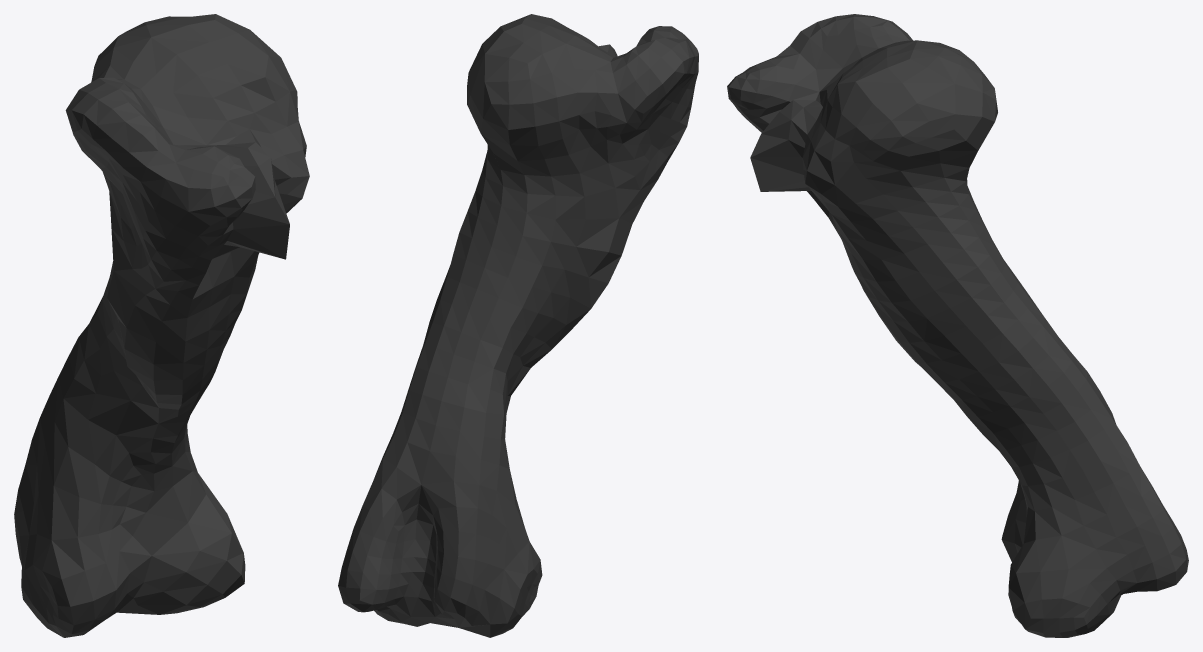
The model's file is Humerus_R_Equine_skeleton_separated_004.glb.
The picture shows the model from 3 angles, left to right: view 1: azimuth 30°, elevation 25°; view 2: azimuth 150°, elevation 25°; view 3: azimuth 270°, elevation 25°; orthographic projection. The views are drawn at different scales.
Parts seen in each view (by area): view 1: Humerus_R_Equine_skeleton_separated_004; view 2: Humerus_R_Equine_skeleton_separated_004; view 3: Humerus_R_Equine_skeleton_separated_004.
Part boxes in pixels (left/top/right/bottom): Humerus_R_Equine_skeleton_separated_004: left=14, top=14, right=309, bottom=637; Humerus_R_Equine_skeleton_separated_004: left=338, top=14, right=698, bottom=637; Humerus_R_Equine_skeleton_separated_004: left=727, top=14, right=1188, bottom=637.
Size of the model in its own units: 0.1815 by 0.4287 by 0.3232.
1 material, 1 textured.
